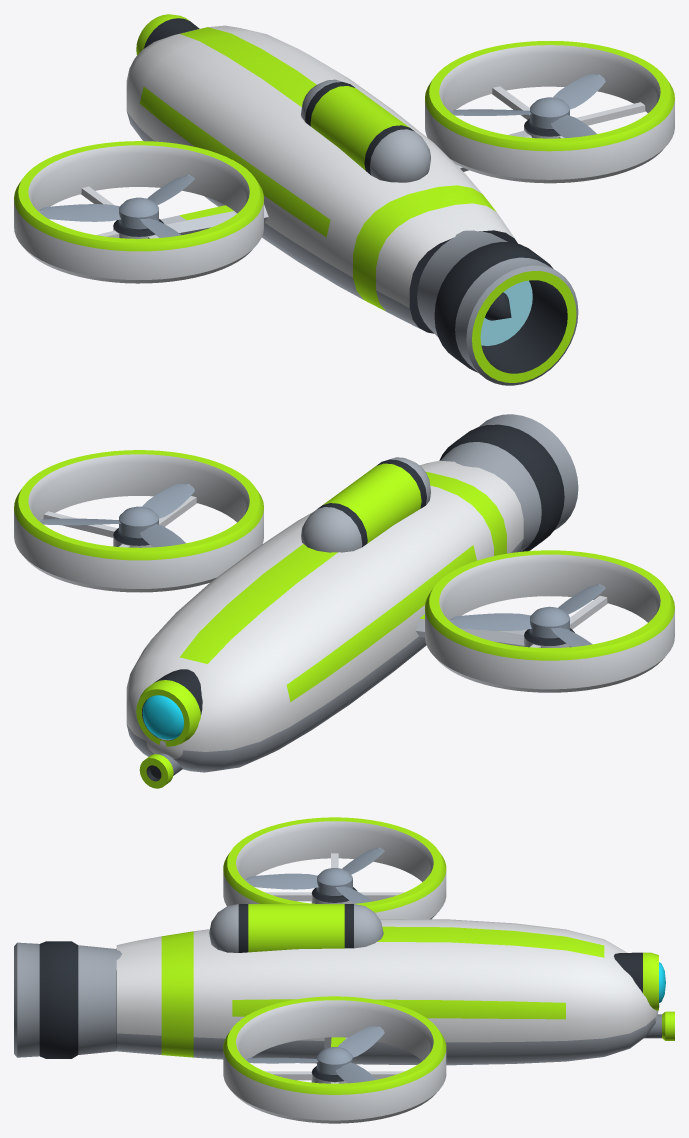
File: drone.obj
3 views of the same model, one above another, from view 1: azimuth 30°, elevation 25°; view 2: azimuth 150°, elevation 25°; view 3: azimuth 270°, elevation 25° (orthographic). The views are drawn at different scales.
Visible parts, largest first — view 1: drone; view 2: drone; view 3: drone.
Part boxes in pixels (bbox=[...]): drone: bbox=[14, 14, 674, 385]; drone: bbox=[14, 414, 674, 788]; drone: bbox=[14, 817, 674, 1123].
Bounding box in the file's own units: 0.9782 × 0.2456 × 1.
Materials: 1 (1 with a texture image).
